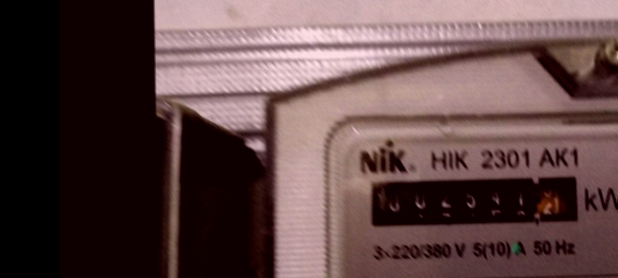0: (383, 188, 402, 214), (411, 184, 426, 211)
1: (511, 181, 525, 208)
2: (435, 184, 452, 209)
4: (487, 182, 501, 205)
5: (460, 182, 479, 211)
6: (539, 197, 554, 215)
screen: (357, 163, 591, 237)
